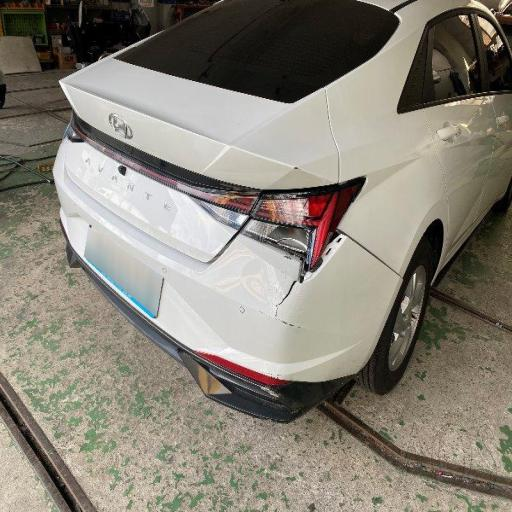broken: (59, 83, 382, 352)
